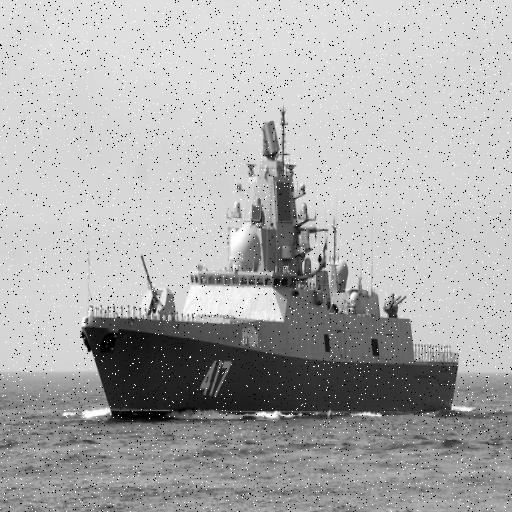Fragata: (84, 98, 464, 434)
